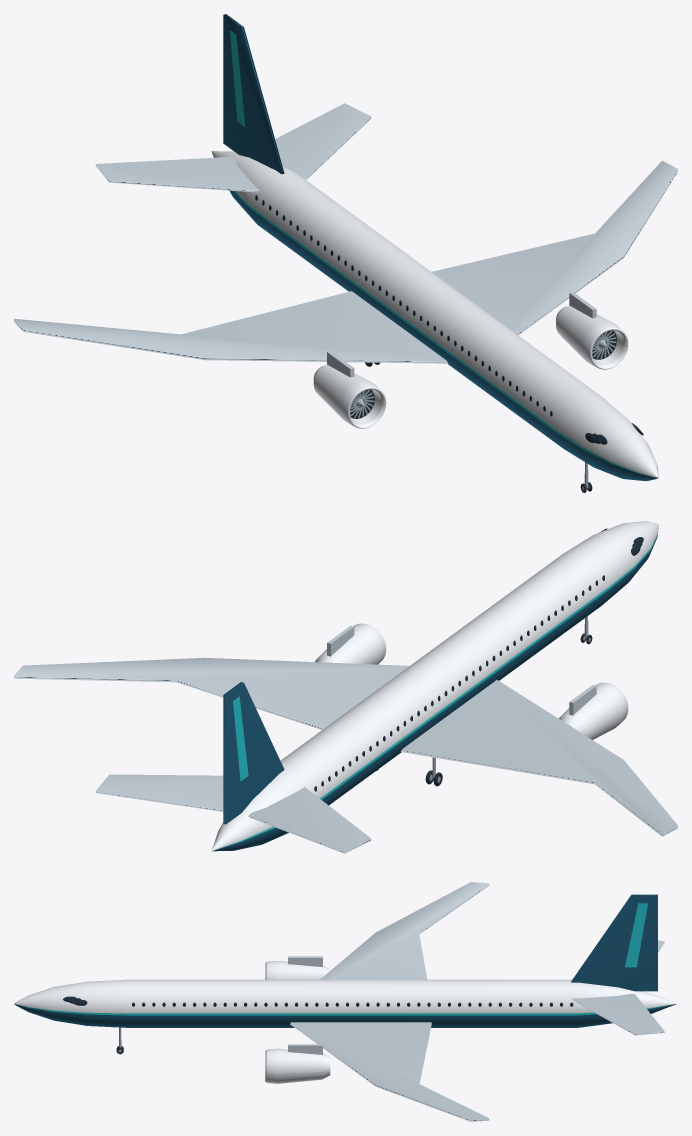
The picture shows the model from 3 angles, top to bottom: view 1: azimuth 30°, elevation 25°; view 2: azimuth 150°, elevation 25°; view 3: azimuth 270°, elevation 25°; orthographic projection. The views are drawn at different scales.
Visible parts, largest first — view 1: Fuselage_white, WingRight_wing, WingLeft_wing, VerticalTail_paint, Fuselage_paint, HorizontalTailRight_wing, HorizontalTailLeft_wing, EngineLeft_white, EngineRight_white, Fuselage_accent, CabinWindows_dark; view 2: Fuselage_white, WingRight_wing, WingLeft_wing, VerticalTail_paint, Fuselage_paint, HorizontalTailRight_wing, HorizontalTailLeft_wing, EngineRight_white, EngineLeft_white, Fuselage_accent, VerticalTail_accent, CabinWindows_dark; view 3: Fuselage_white, WingLeft_wing, Fuselage_paint, WingRight_wing, VerticalTail_paint, HorizontalTailLeft_wing, EngineLeft_white, Fuselage_accent, EngineRight_white, VerticalTail_accent, CabinWindows_dark.
Boxes of the visible parts, box(x1,y1,x2,y2) form: Fuselage_white: box(211, 151, 658, 477); WingRight_wing: box(14, 291, 448, 363); WingLeft_wing: box(432, 160, 677, 335); VerticalTail_paint: box(223, 14, 284, 174); Fuselage_paint: box(229, 190, 658, 481); HorizontalTailRight_wing: box(95, 157, 259, 192); HorizontalTailLeft_wing: box(275, 103, 371, 179); EngineLeft_white: box(556, 305, 628, 369); EngineRight_white: box(313, 364, 386, 428); Fuselage_accent: box(233, 191, 655, 477); CabinWindows_dark: box(255, 195, 552, 416); Fuselage_white: box(211, 521, 658, 851); WingRight_wing: box(400, 680, 677, 836); WingLeft_wing: box(14, 657, 409, 729); VerticalTail_paint: box(223, 682, 284, 824); Fuselage_paint: box(212, 535, 657, 851); HorizontalTailRight_wing: box(248, 787, 371, 853); HorizontalTailLeft_wing: box(95, 774, 223, 811); EngineRight_white: box(559, 682, 628, 739); EngineLeft_white: box(315, 623, 386, 664); Fuselage_accent: box(216, 532, 658, 849); VerticalTail_accent: box(233, 696, 248, 781); CabinWindows_dark: box(314, 575, 604, 791); Fuselage_white: box(14, 979, 677, 1013); WingLeft_wing: box(290, 1022, 489, 1121); Fuselage_paint: box(14, 1004, 676, 1027); WingRight_wing: box(320, 882, 489, 979); VerticalTail_paint: box(571, 894, 657, 991); HorizontalTailLeft_wing: box(572, 994, 664, 1035); EngineLeft_white: box(265, 1048, 330, 1083); Fuselage_accent: box(18, 1004, 673, 1015); EngineRight_white: box(265, 961, 330, 979); VerticalTail_accent: box(625, 903, 647, 967); CabinWindows_dark: box(132, 1002, 573, 1006).
Bounding box in the file's own units: 35.12 × 10.9 × 41.5.
